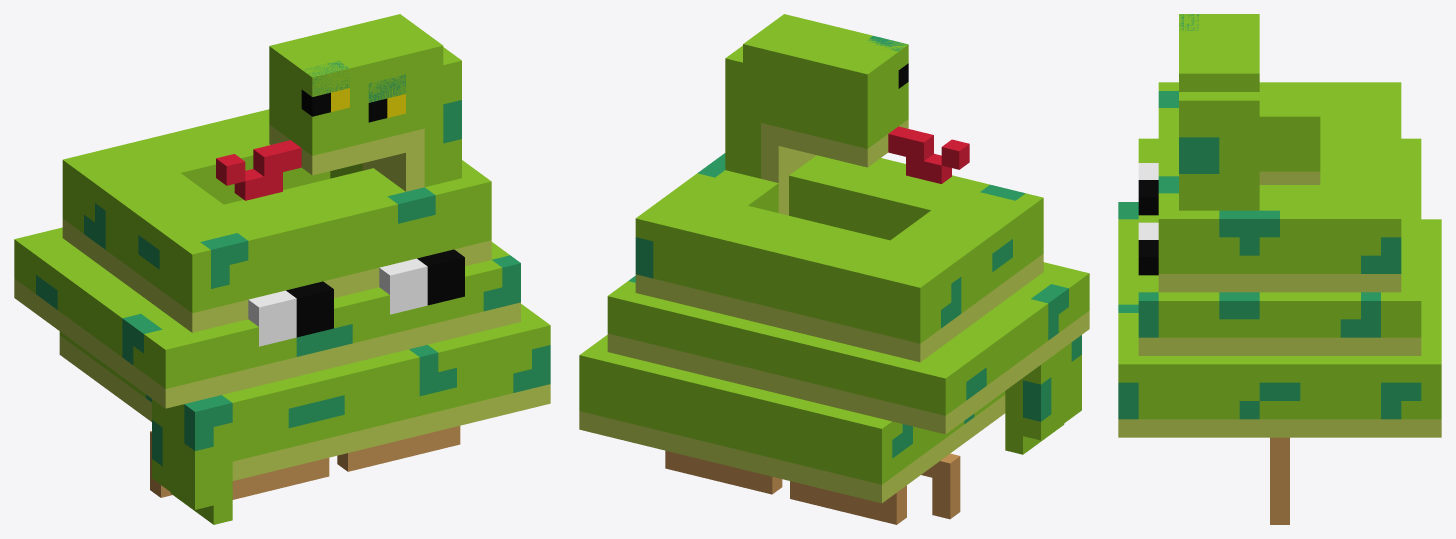
File: snake.glb
The picture shows the model from 3 angles, left to right: view 1: azimuth 30°, elevation 25°; view 2: azimuth 150°, elevation 25°; view 3: azimuth 270°, elevation 25°; orthographic projection. The views are drawn at different scales.
Parts seen in each view (by area): view 1: base, nouns-eyes, glasses, tongue, eyes, eyesbrow; view 2: base, glasses, tongue; view 3: base, nouns-eyes, glasses.
Boxes of the visible parts, left/top/right/bottom form: base: left=14, top=14, right=550, bottom=524; nouns-eyes: left=248, top=249, right=464, bottom=346; glasses: left=150, top=426, right=460, bottom=499; tongue: left=216, top=140, right=301, bottom=200; eyes: left=301, top=88, right=405, bottom=122; eyesbrow: left=304, top=60, right=405, bottom=102; base: left=579, top=14, right=1089, bottom=503; glasses: left=665, top=450, right=960, bottom=524; tongue: left=888, top=126, right=969, bottom=183; base: left=1118, top=14, right=1441, bottom=437; nouns-eyes: left=1138, top=163, right=1158, bottom=275; glasses: left=1270, top=437, right=1289, bottom=524.
Bounding box in the file's own units: 20 × 23 × 16.
13 materials, 13 textured.
